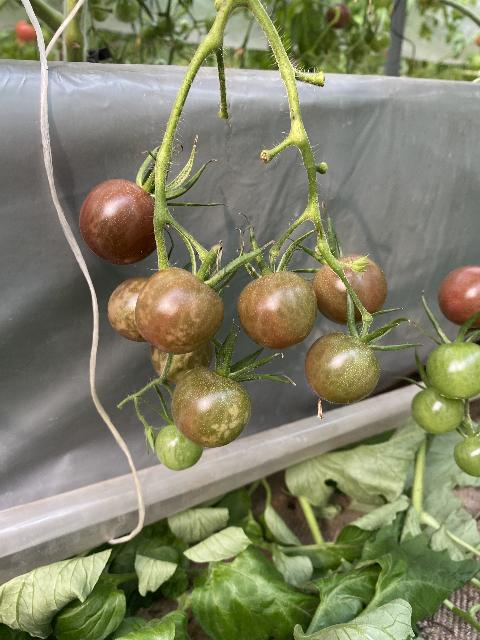l_fully_ripened: (79, 180, 157, 265), (438, 265, 480, 328)
l_green: (426, 342, 480, 401), (108, 276, 150, 342), (410, 389, 465, 434), (154, 423, 204, 470), (453, 434, 480, 477)
l_half_ripened: (134, 266, 225, 356), (171, 367, 252, 449), (237, 271, 318, 349), (304, 331, 380, 405), (310, 254, 386, 325), (150, 340, 212, 383)
